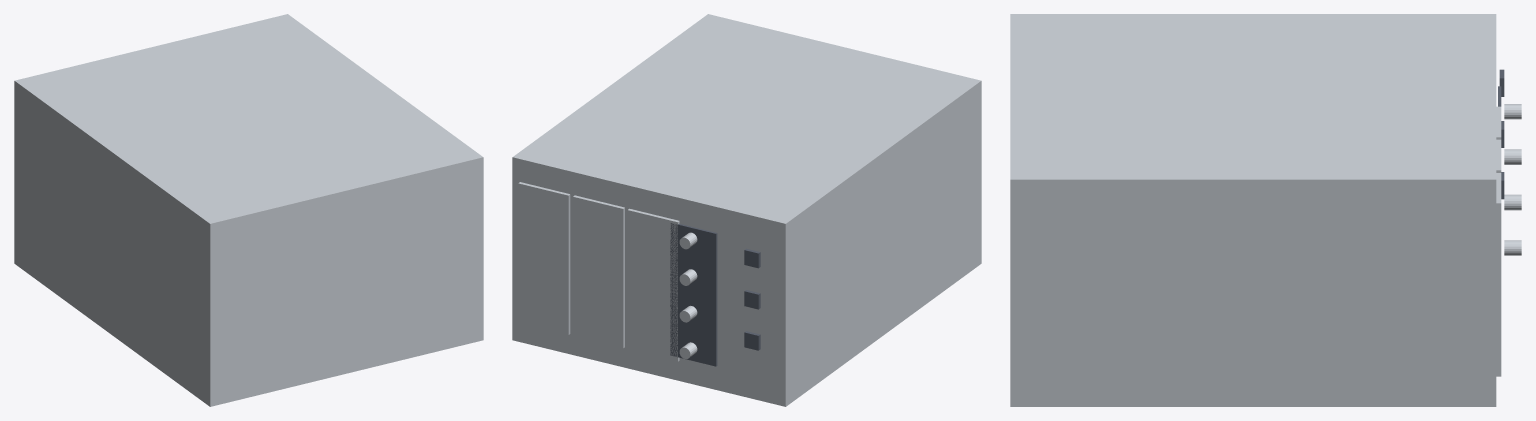
File: santec-mpm210-setup4.glb
3 renders of one model, left to right at view 1: azimuth 30°, elevation 25°; view 2: azimuth 150°, elevation 25°; view 3: azimuth 270°, elevation 25°, orthographic. The views are drawn at different scales.
Visible parts, largest first — view 1: silver white power meter; view 2: silver white power meter, silver blank module bay (×3), black channel panel; view 3: silver white power meter, silver blank module bay.
Boxes of the visible parts, bbox=[...] form: silver white power meter: bbox=[14, 14, 483, 406]; silver white power meter: bbox=[512, 14, 981, 406]; silver blank module bay (×3): bbox=[518, 182, 679, 361]; black channel panel: bbox=[670, 223, 717, 366]; silver white power meter: bbox=[1010, 14, 1496, 406]; silver blank module bay: bbox=[1496, 173, 1501, 376].
Bounding box in the file's own units: 0.25 × 0.16 × 0.326.
